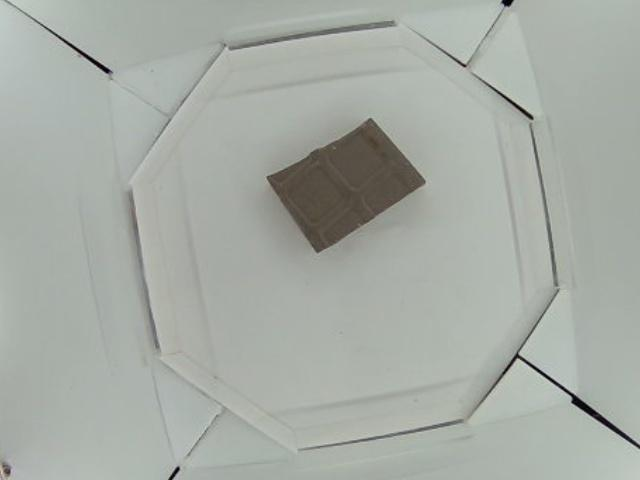China: (264, 120, 426, 250)
